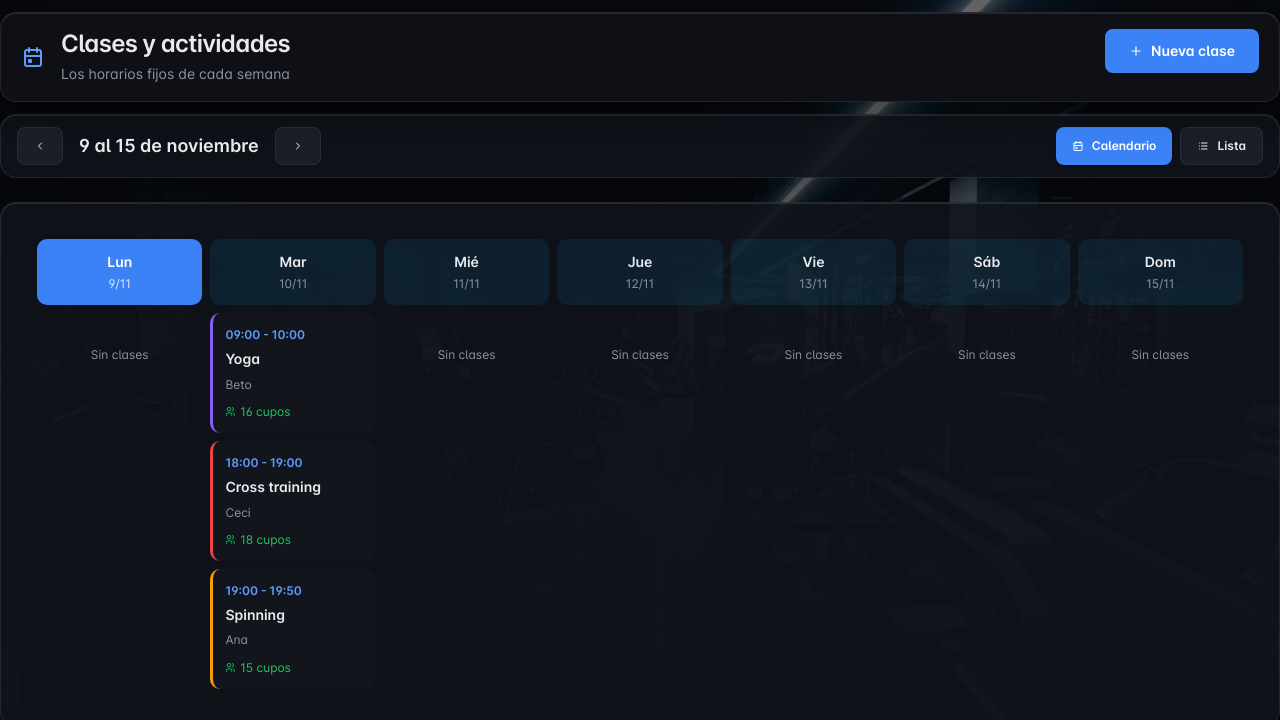
Test case: Clases › en la lista no hay flechas de semana (ahí no cambiaban nada)
This screenshot has width=1280, height=720.
Expected: the button named "Semana anterior" is shown, [17, 127, 63, 165]
Click the button "Lista" at {"x": 1222, "y": 146}, box [1180, 127, 1263, 165]
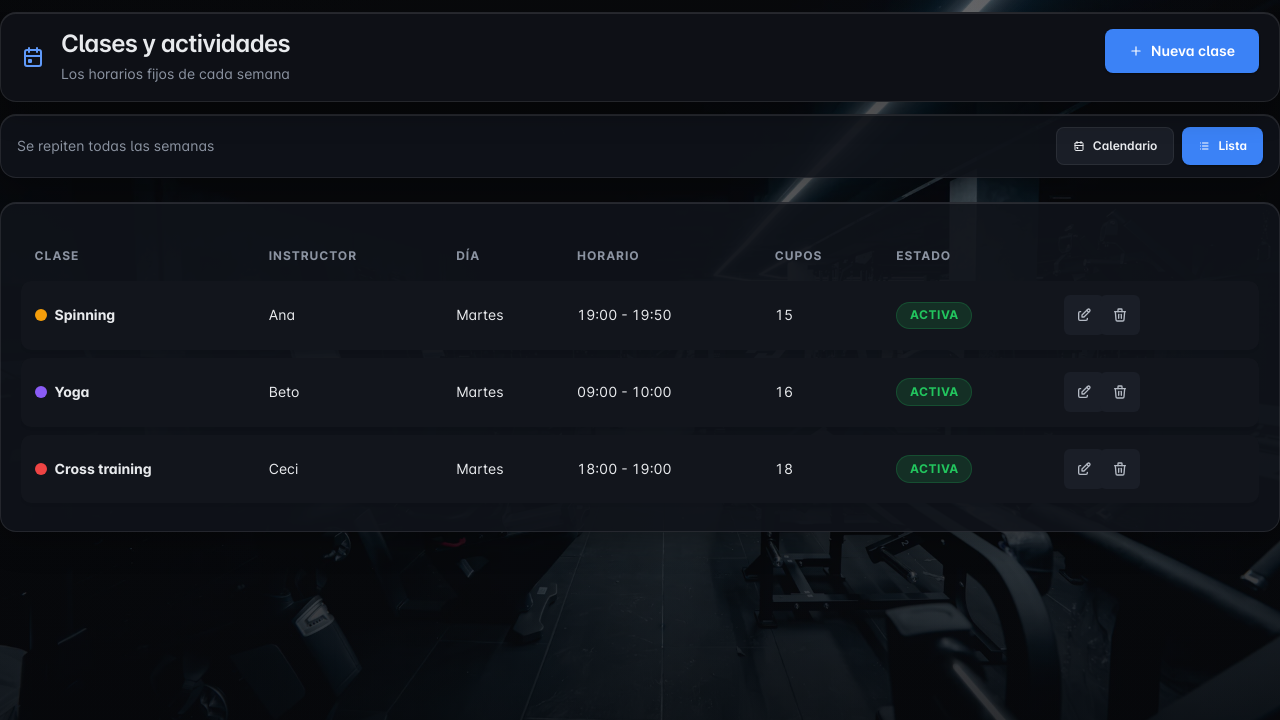
Expected: the text "Se repiten todas las semanas" is shown, [17, 135, 214, 158]
